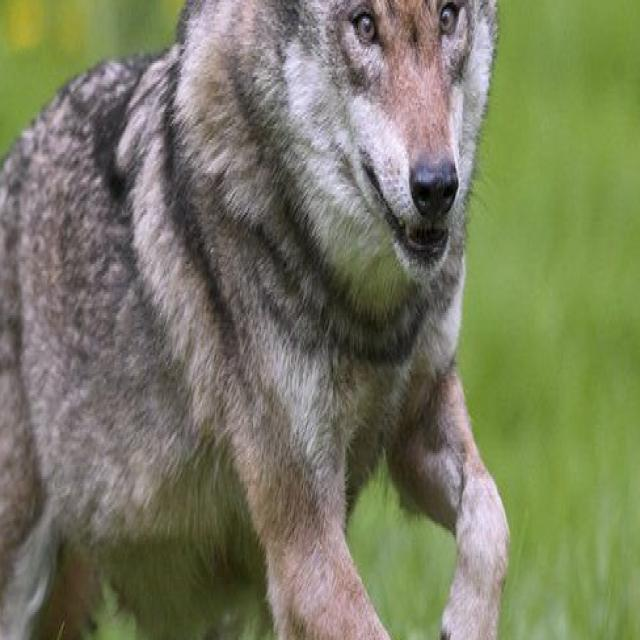wolf: (0, 0, 563, 640)
